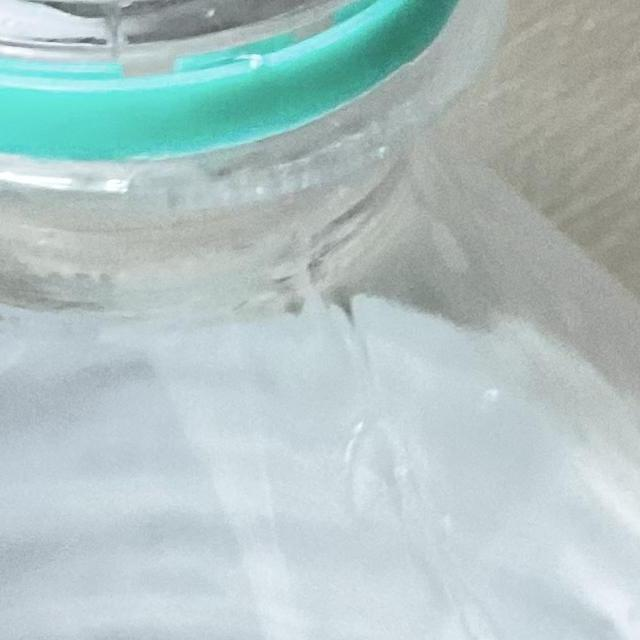open-cap: (0, 0, 491, 173)
